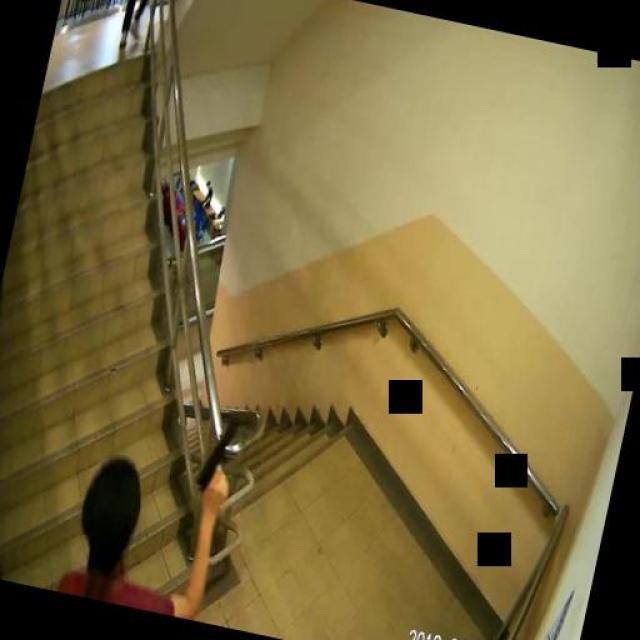gun: (192, 411, 244, 500)
